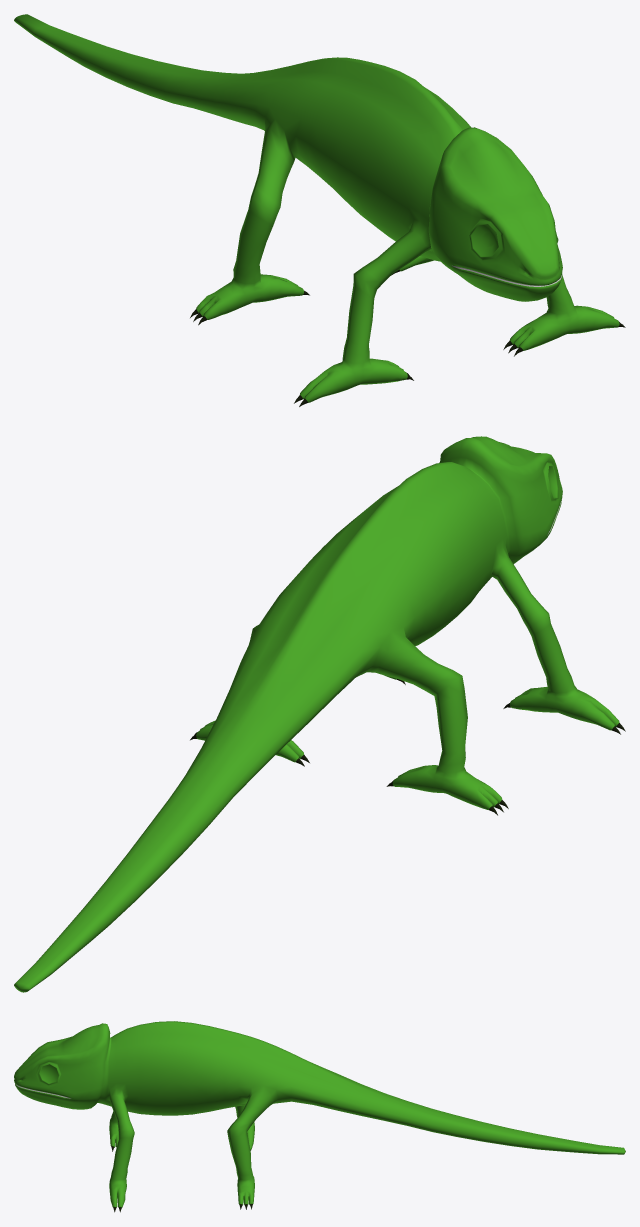
File: chameleon_chameleon.obj
3 views of the same model, one above another, from view 1: azimuth 30°, elevation 25°; view 2: azimuth 150°, elevation 25°; view 3: azimuth 270°, elevation 25° (orthographic). The views are drawn at different scales.
Visible parts, largest first — view 1: chameleon; view 2: chameleon; view 3: chameleon.
Boxes of the visible parts, box(x1,y1,x2,y2) form: chameleon: box(14, 14, 625, 406); chameleon: box(14, 436, 625, 992); chameleon: box(14, 1021, 625, 1212).
Size of the model in its own units: 0.1963 by 0.1431 by 0.5485.
